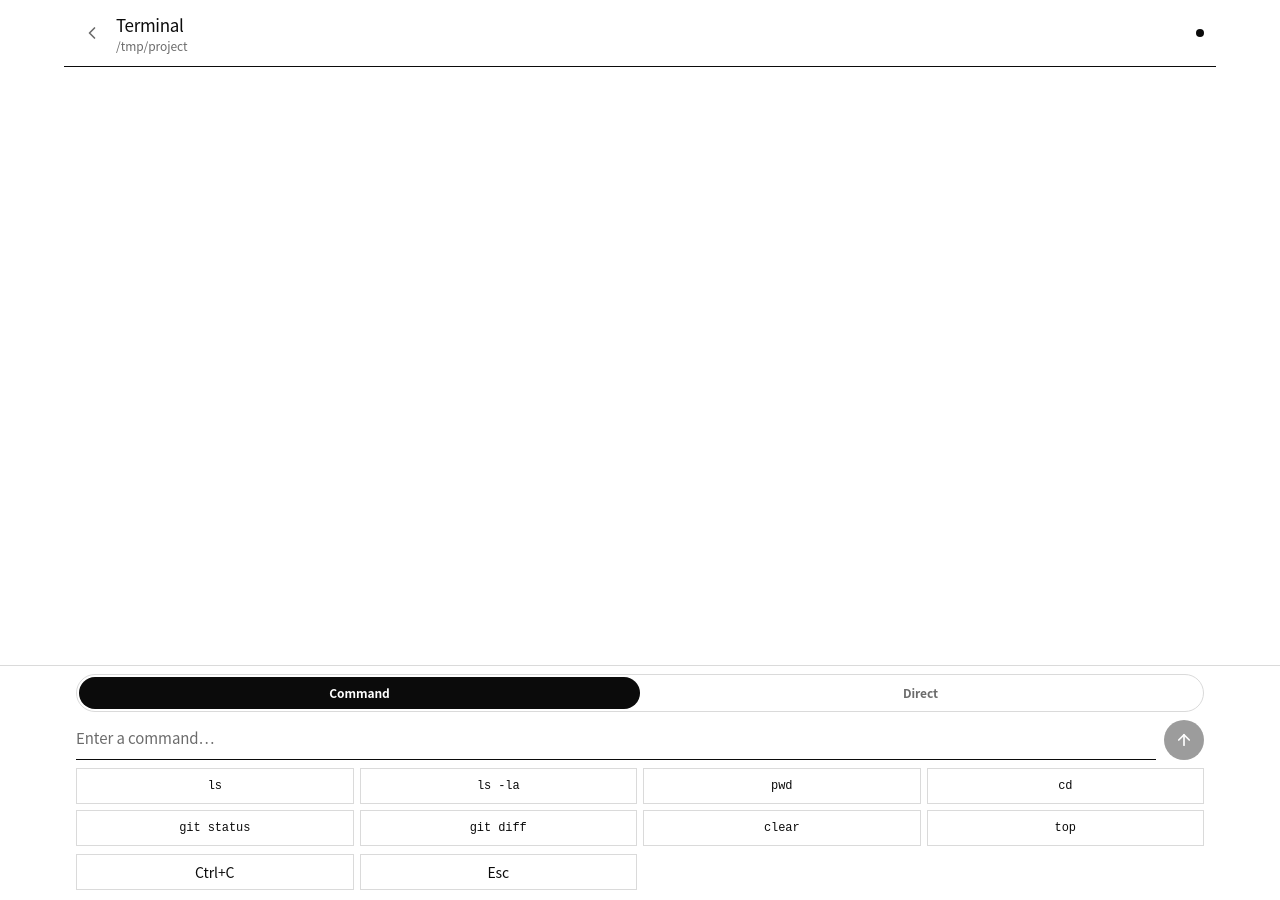
it: TerminalPage compact command input › shows direct terminal keys in paged multi-row grids
Click the button "Direct": (920, 693) [640,677,1201,709]
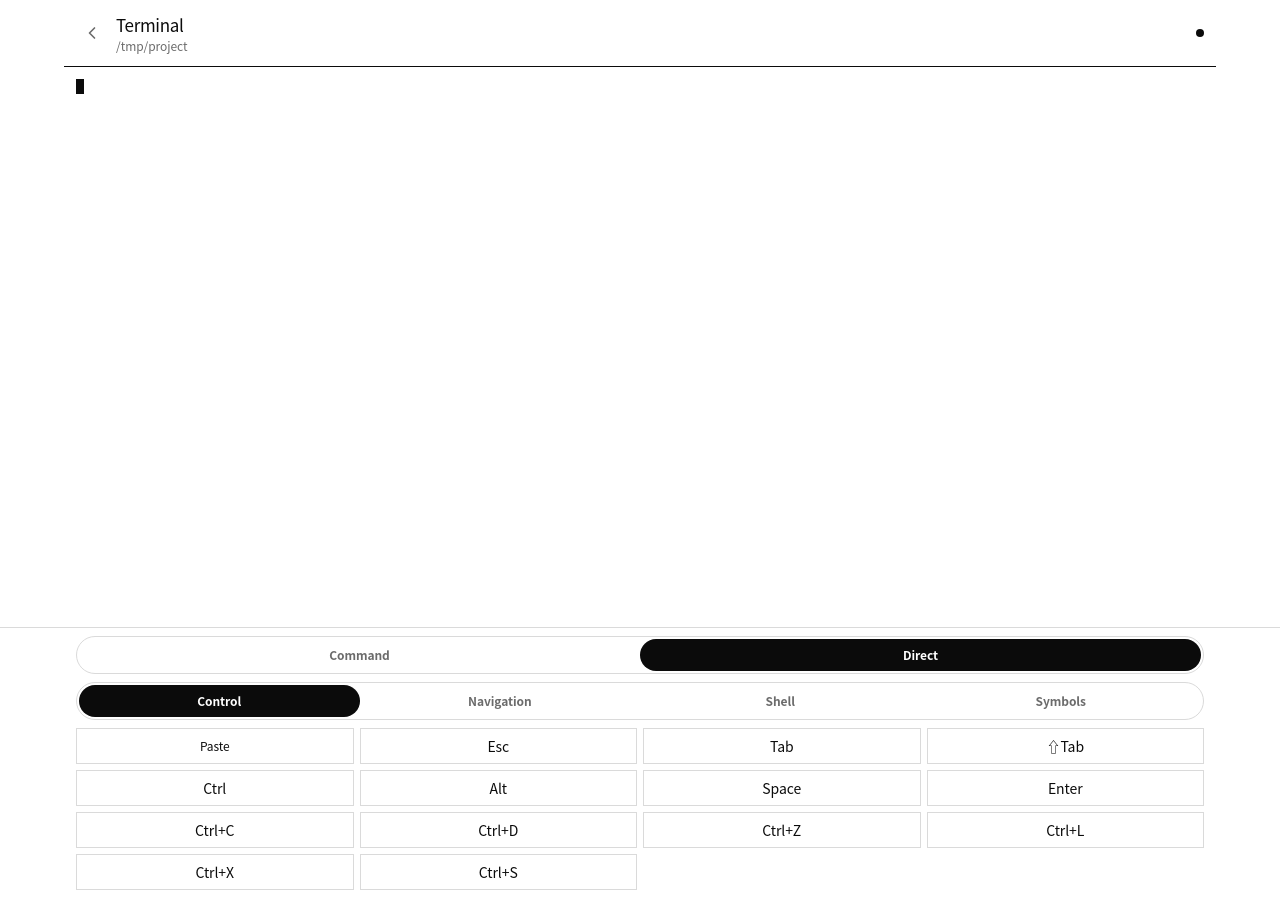
expect the button with aria-label "Shift Tab" is shown: met, box [926,728,1204,764]
expect the button "Enter" is shown: met, box [926,770,1204,806]
Click the button "Navigation": (500, 701) [360,685,640,717]
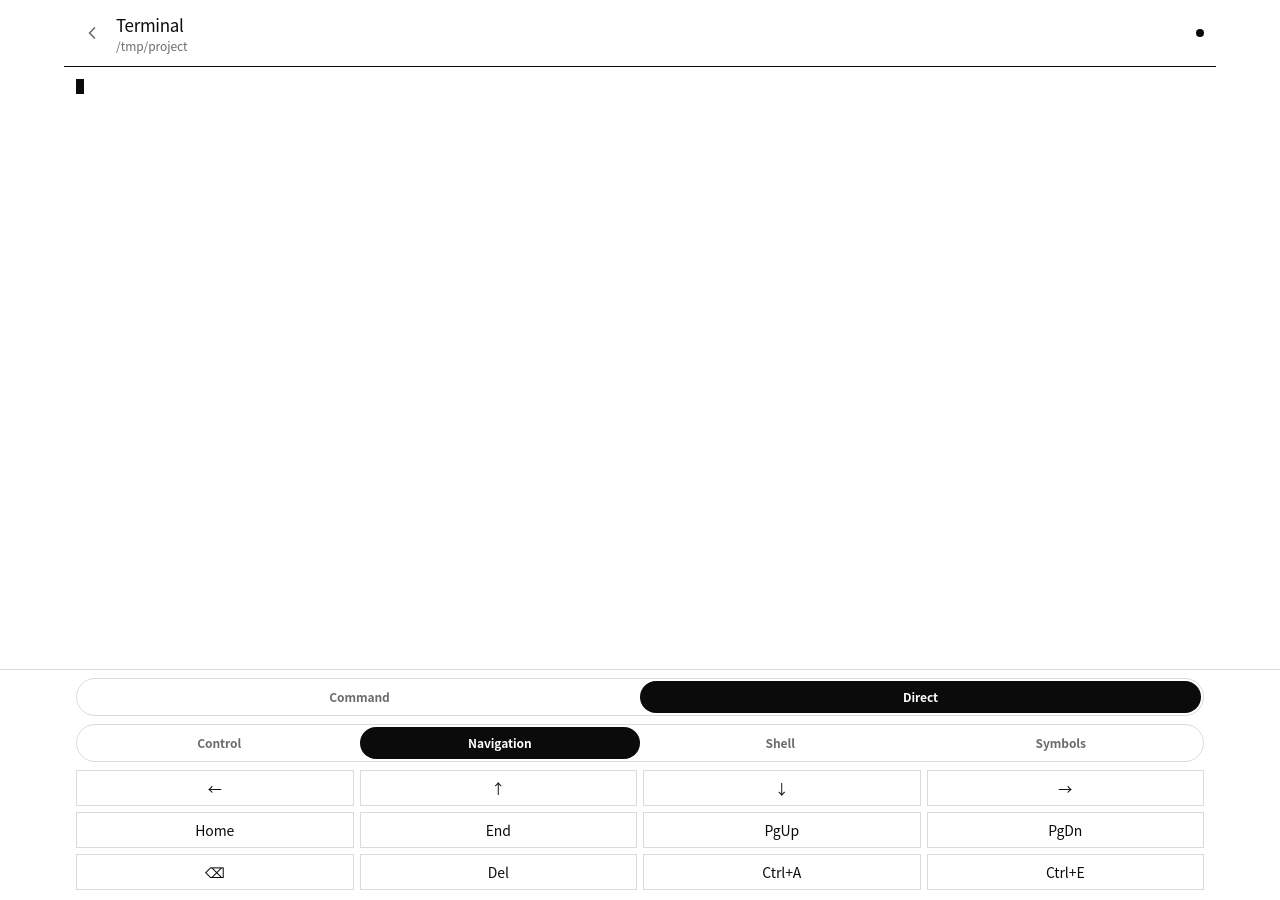
expect the button with aria-label "Page down" is shown: met, box [926,812,1204,848]
Click the button "Shell": (780, 743) [640,727,920,759]
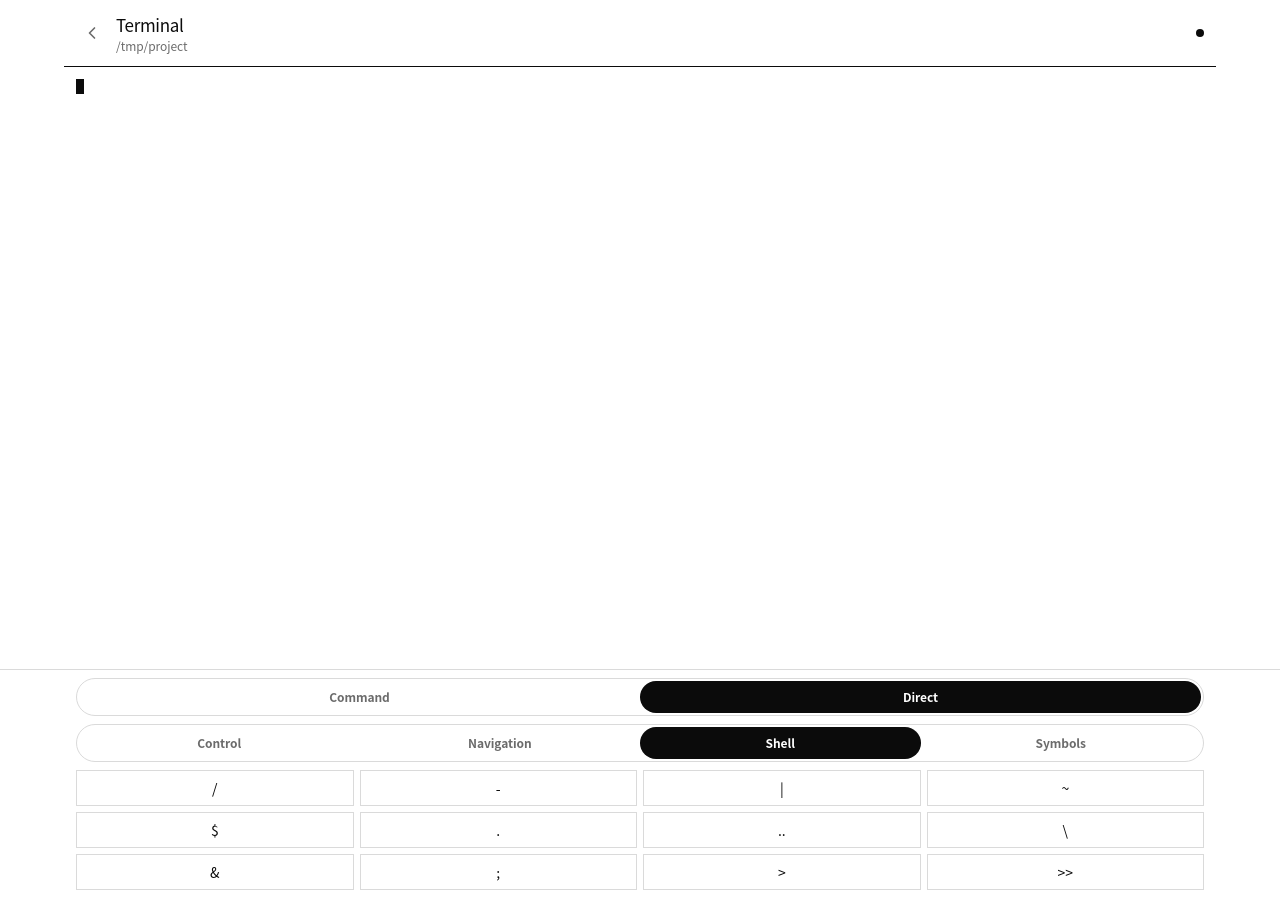
expect the button named "Pipe" is shown: met, box [643,770,920,806]
Click the button "Symbols": (1061, 743) [920,727,1201,759]
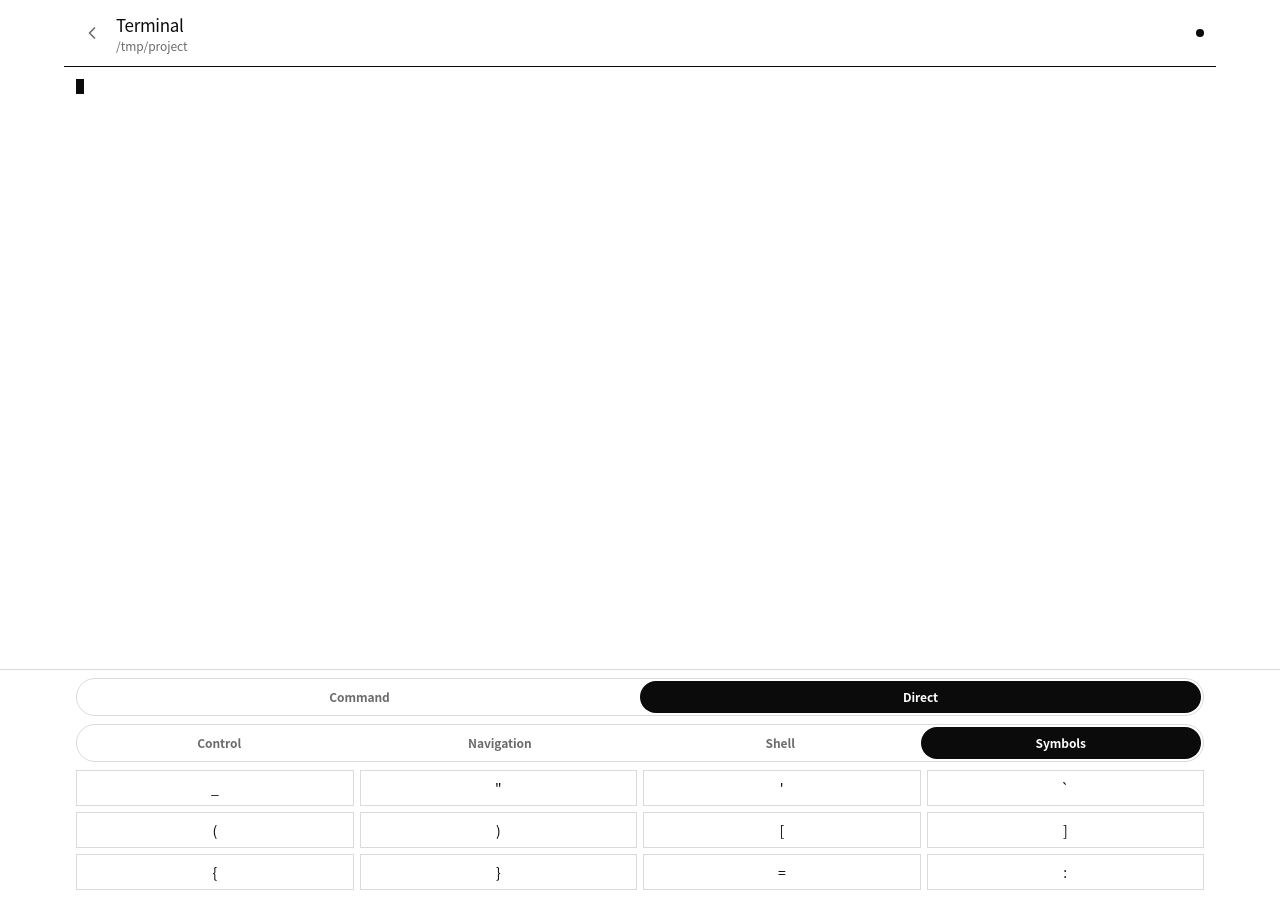
expect the button named "Left brace" is shown: met, box [76,854,354,890]
